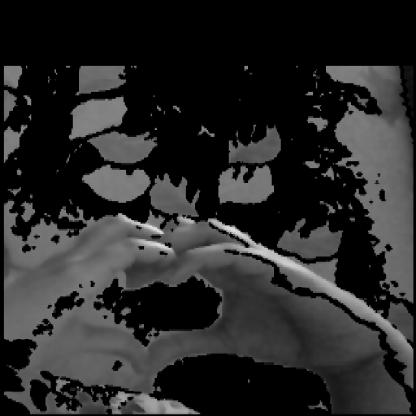heart: (35, 196, 330, 369)
